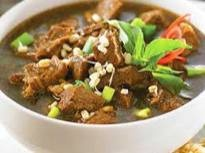rawon: (3, 4, 199, 127)
